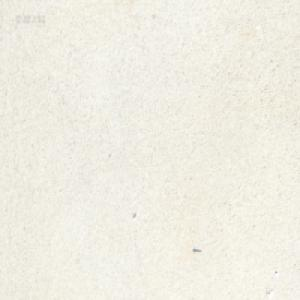Nail: (192, 246, 201, 253)
